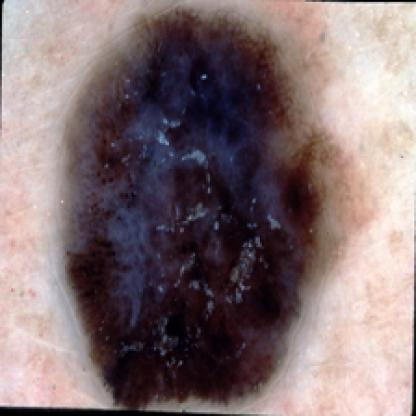malignant: (89, 37, 284, 383)
